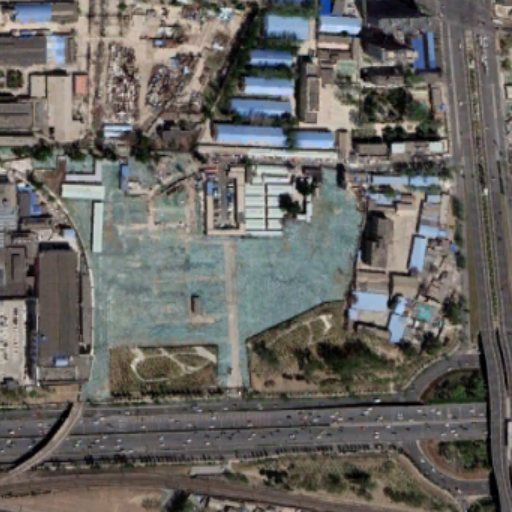cw: (29, 148, 367, 405)
